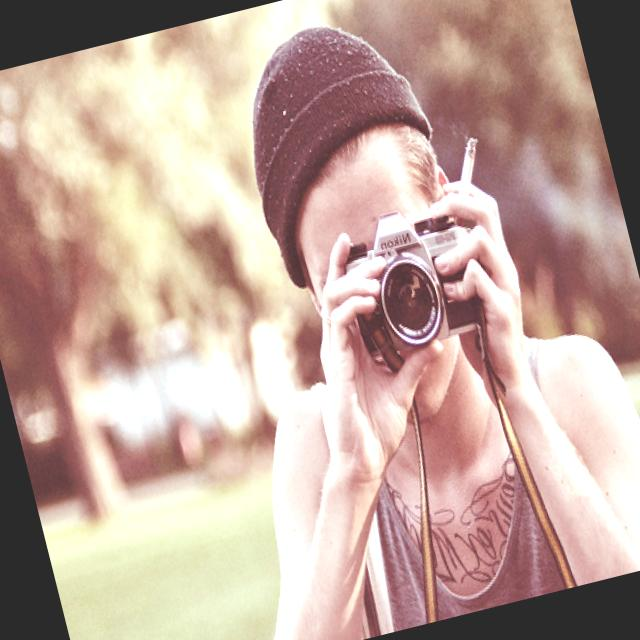cigarette: (444, 133, 491, 200)
